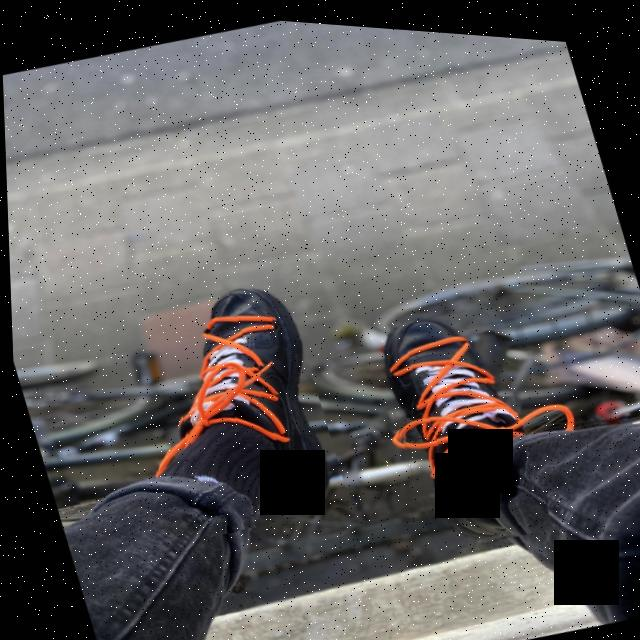shoe: (142, 264, 349, 540), (358, 279, 551, 555)
